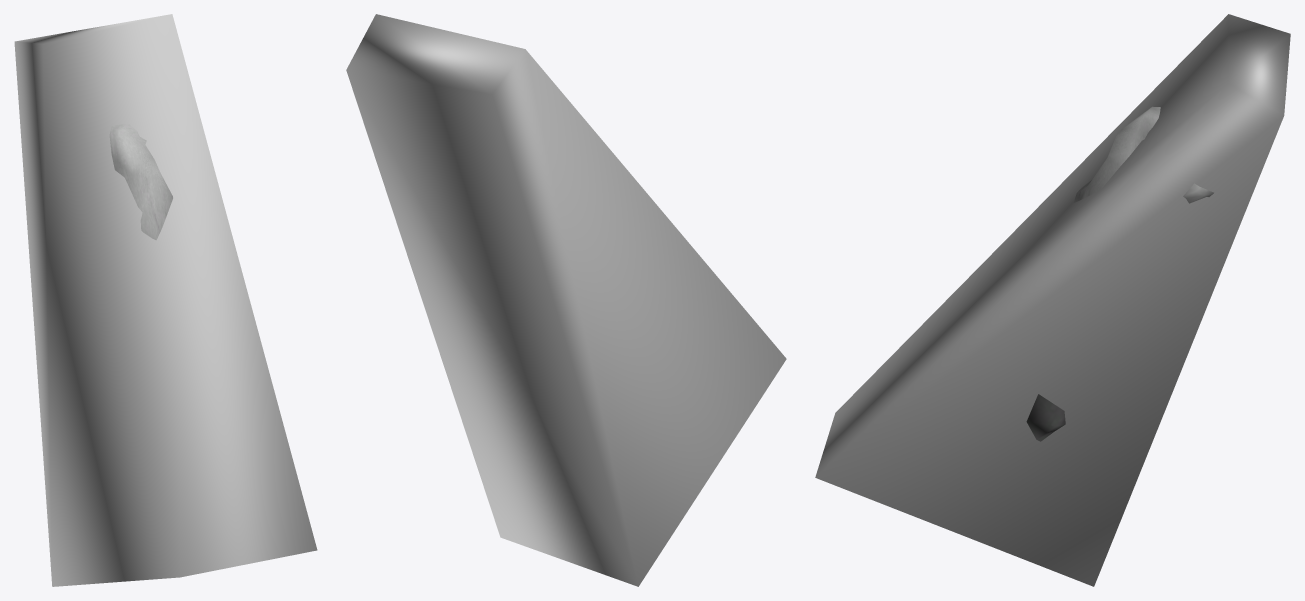
File: pulseCannon_damaged.fbx
3 views of the same model, side by side, from view 1: azimuth 30°, elevation 25°; view 2: azimuth 150°, elevation 25°; view 3: azimuth 270°, elevation 25° (orthographic). The views are drawn at different scales.
Visible parts, largest first — view 1: 0000_pulseCannon_damaged, 0001_pulseCannon_damaged; view 2: 0000_pulseCannon_damaged; view 3: 0000_pulseCannon_damaged, 0001_pulseCannon_damaged.
Part boxes in pixels (left/top/right/bottom): 0000_pulseCannon_damaged: left=14, top=14, right=317, bottom=586; 0001_pulseCannon_damaged: left=109, top=124, right=172, bottom=240; 0000_pulseCannon_damaged: left=346, top=14, right=786, bottom=586; 0000_pulseCannon_damaged: left=815, top=14, right=1290, bottom=586; 0001_pulseCannon_damaged: left=1026, top=106, right=1213, bottom=441.
Size of the model in its own units: 1.81 by 4.92 by 3.97.
